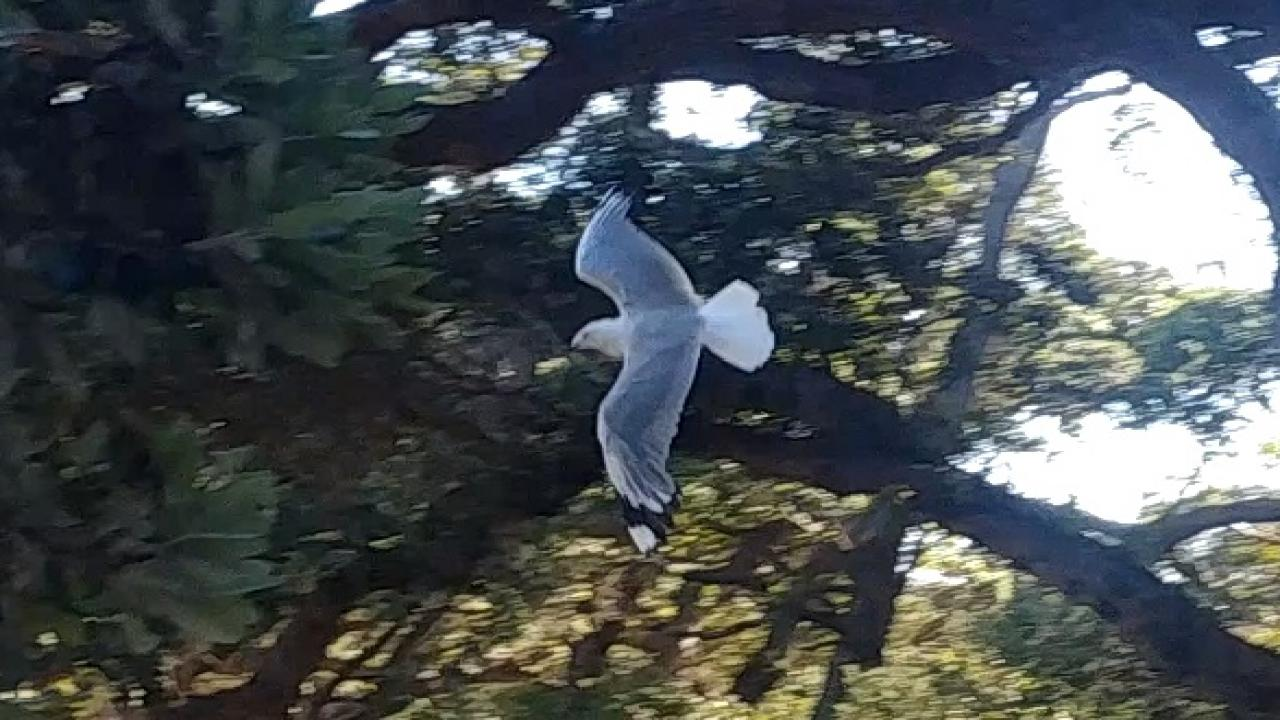Bird: (554, 160, 788, 564)
